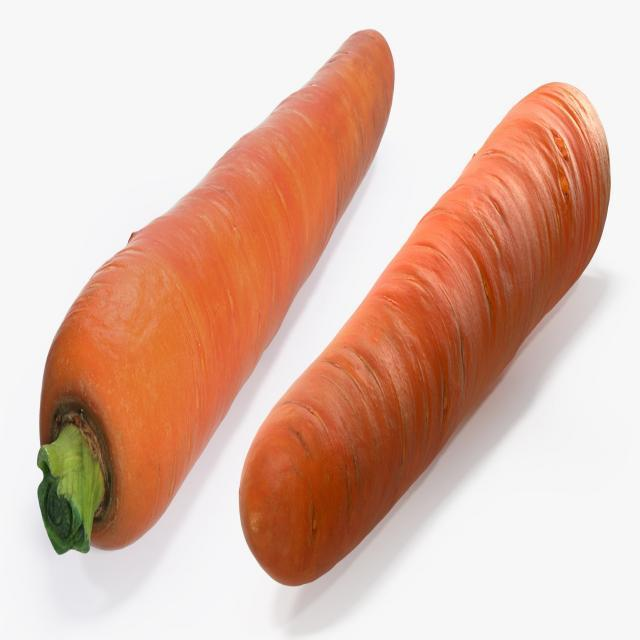carrot: (236, 76, 614, 599), (37, 24, 395, 571)
